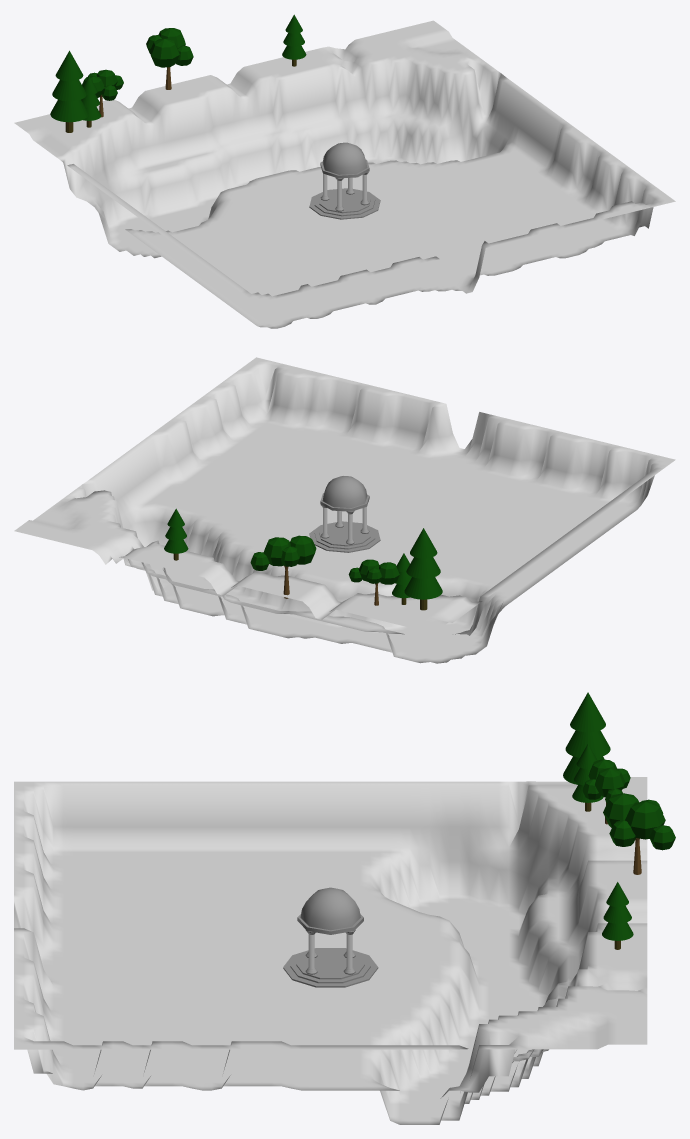
File: character_creation_scene_2025.glb
The picture shows the model from 3 angles, top to bottom: view 1: azimuth 30°, elevation 25°; view 2: azimuth 150°, elevation 25°; view 3: azimuth 270°, elevation 25°; orthographic projection. The views are drawn at different scales.
Visible parts, largest first — view 1: Plane.001, Pavilion, Sphere.010, Cone.003, Cone.004, Cone.005; view 2: Plane.001, Pavilion, Cone.003, Cone.004, Sphere.010, Sphere.012, Cone.005; view 3: Plane.001, Pavilion, Sphere.012, Cone.004, Cone.005, Sphere.010.
Part boxes in pixels (x1,y1,x2,y2): Plane.001: [14, 20, 675, 328]; Pavilion: [309, 142, 380, 219]; Sphere.010: [149, 38, 179, 67]; Cone.003: [50, 99, 88, 122]; Cone.004: [52, 80, 86, 101]; Cone.005: [55, 50, 83, 81]; Plane.001: [14, 357, 675, 663]; Pavilion: [309, 476, 380, 552]; Cone.003: [404, 577, 442, 599]; Cone.004: [406, 557, 440, 578]; Sphere.010: [290, 535, 316, 564]; Sphere.012: [263, 537, 290, 566]; Cone.005: [410, 528, 437, 558]; Plane.001: [14, 777, 647, 1124]; Pavilion: [283, 887, 378, 987]; Sphere.012: [625, 801, 665, 839]; Cone.004: [565, 730, 610, 757]; Cone.005: [570, 692, 605, 732]; Sphere.010: [603, 793, 638, 827].
Bounding box in the file's own units: 40 × 14.43 × 41.8.
